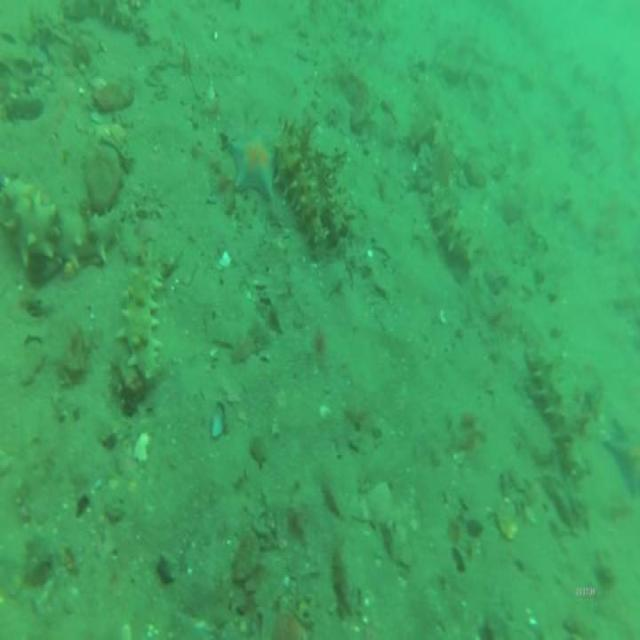holothurian: (1, 176, 124, 278), (522, 334, 589, 484), (272, 112, 331, 250), (116, 243, 166, 381), (428, 187, 476, 270)
starfish: (226, 126, 280, 202)
